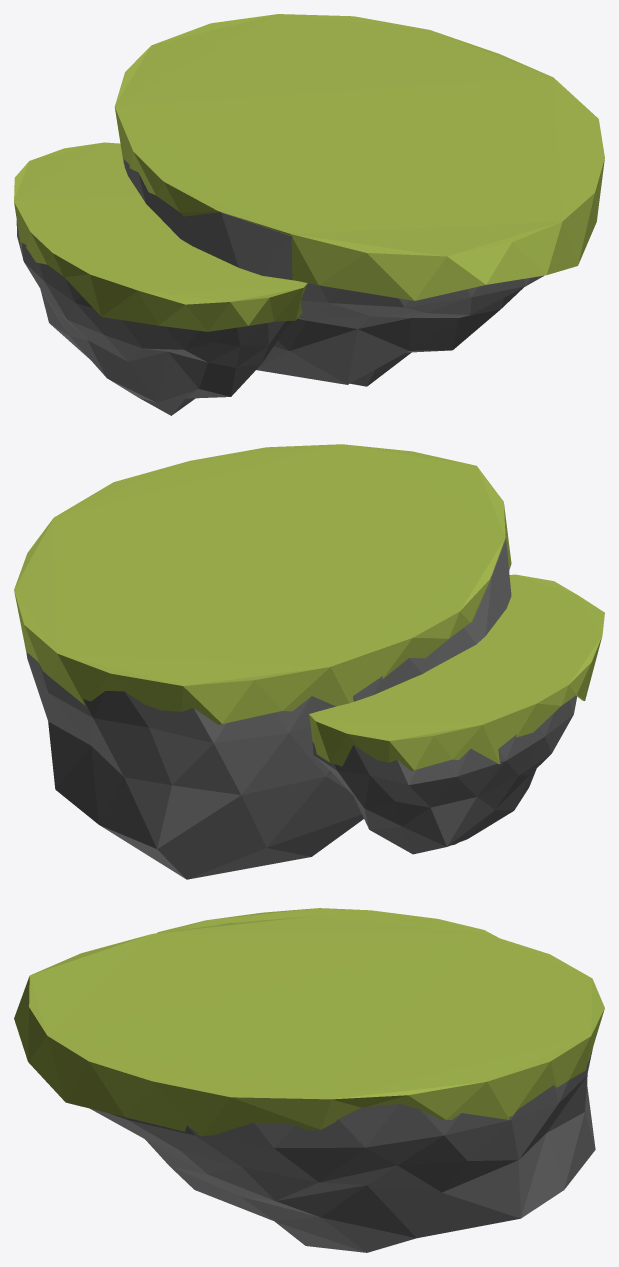
File: doubleIsland[01].fbx
3 renders of one model, top to bottom at view 1: azimuth 30°, elevation 25°; view 2: azimuth 150°, elevation 25°; view 3: azimuth 270°, elevation 25°, orthographic. The views are drawn at different scales.
Parts seen in each view (by area): view 1: Icosphere.005, Icosphere.003, Icosphere.004, Icosphere.002; view 2: Icosphere.005, Icosphere.004, Icosphere.003, Icosphere.002; view 3: Icosphere.005, Icosphere.004, Icosphere.003.
Boxes of the visible parts, x1,y1,x2,y2 form: Icosphere.005: [114, 14, 604, 300]; Icosphere.003: [14, 142, 307, 331]; Icosphere.004: [124, 159, 543, 386]; Icosphere.002: [16, 220, 292, 415]; Icosphere.005: [14, 444, 511, 724]; Icosphere.004: [26, 538, 511, 879]; Icosphere.003: [309, 574, 604, 771]; Icosphere.002: [312, 695, 576, 854]; Icosphere.005: [14, 915, 604, 1135]; Icosphere.004: [90, 922, 595, 1252]; Icosphere.003: [157, 908, 498, 937].
Size of the model in its own units: 725 by 344 by 765.
